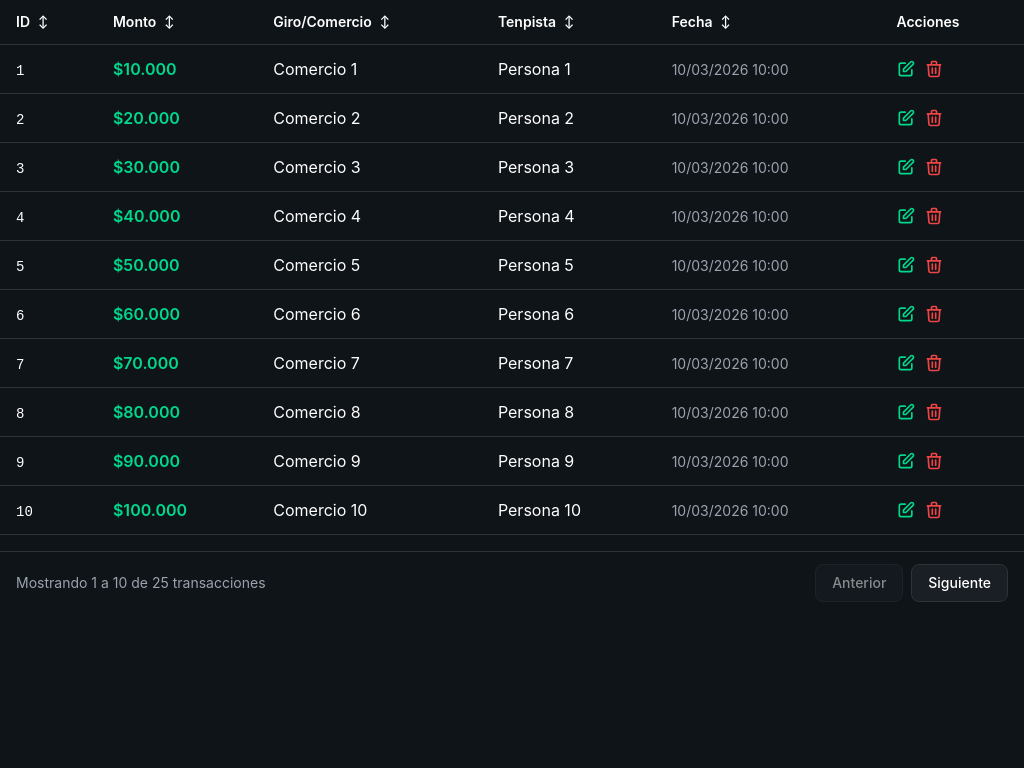
Test: TransactionsTable › Paginación › debe deshabilitar el botón Siguiente en la última página
Note: Navegar a la última página (página 3 de 3)
Click the button "Siguiente".
click(960, 583)  # box [911,564,1008,602]
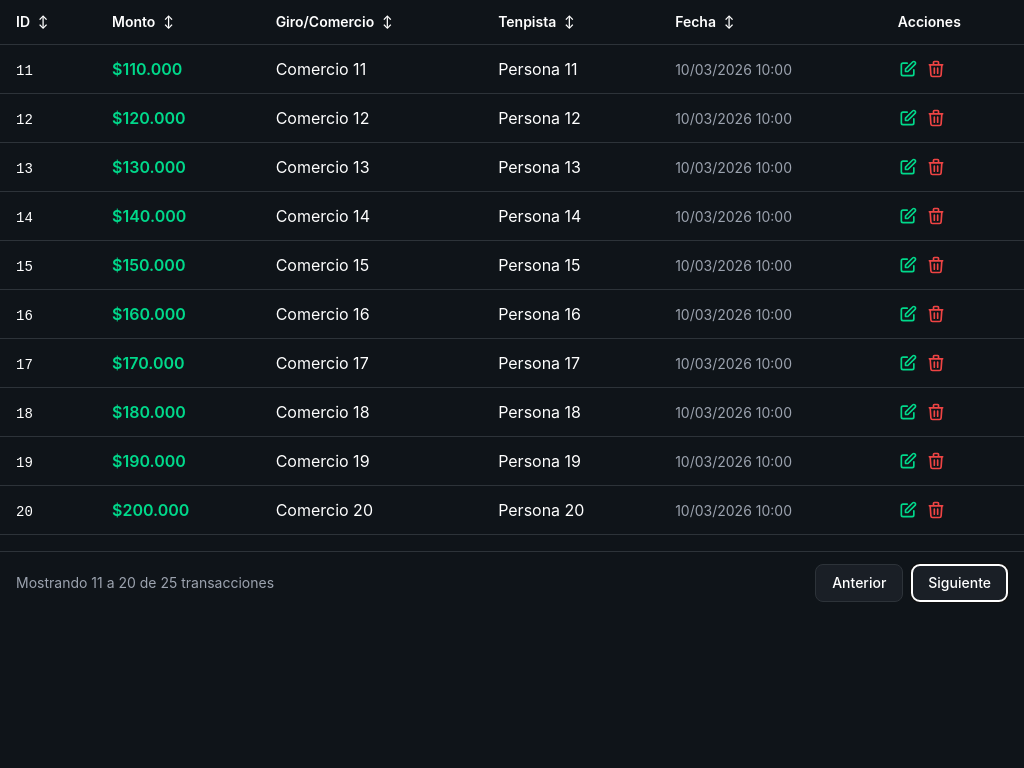
Click the button "Siguiente".
click(960, 583)  # box [911,564,1008,602]
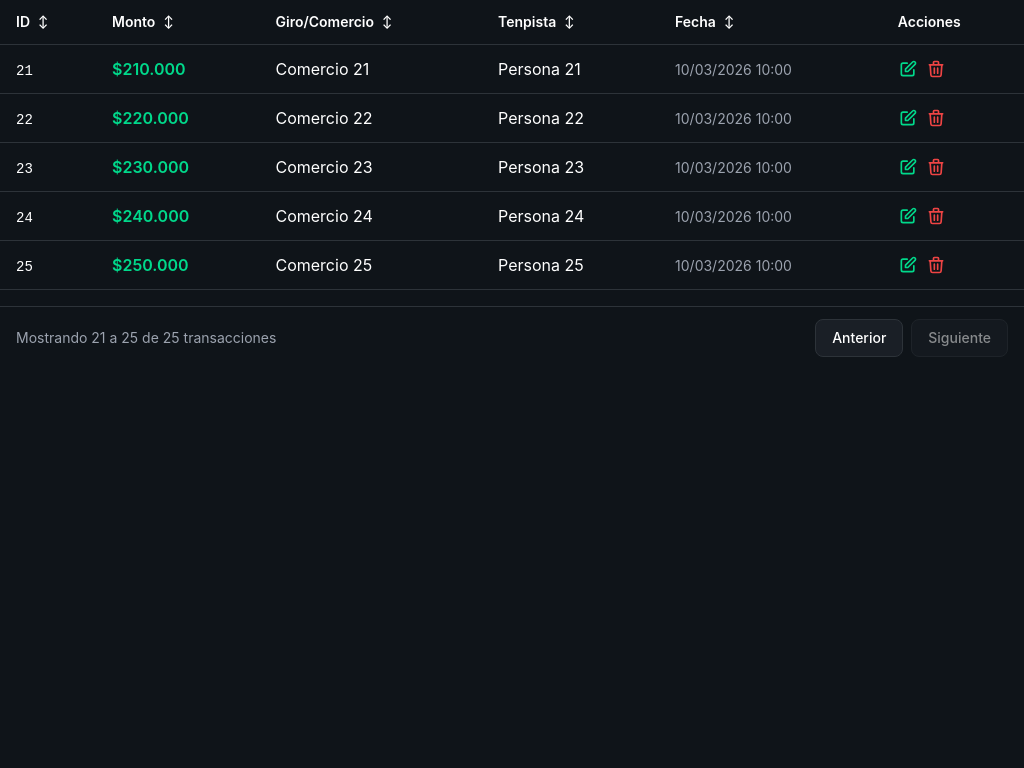
Check: the button "Siguiente" is disabled, box [911,319,1008,357]
